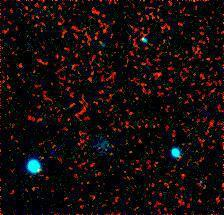star: (36, 136, 66, 166)
